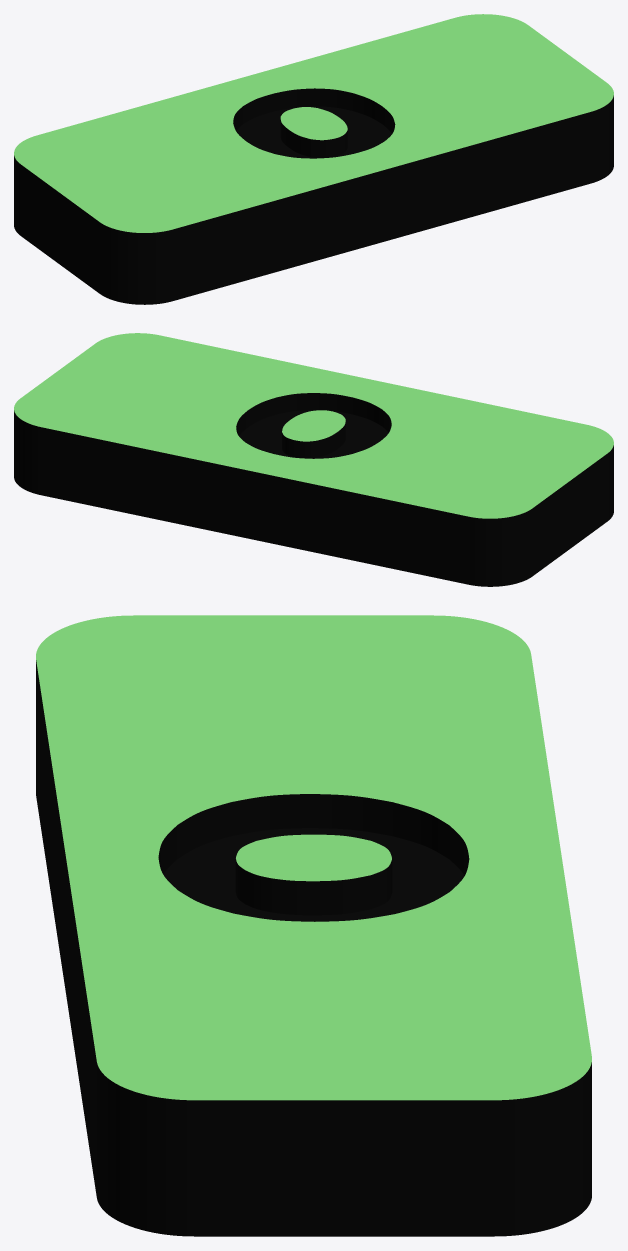
File: touche_verte.fbx
3 views of the same model, one above another, from view 1: azimuth 30°, elevation 25°; view 2: azimuth 150°, elevation 25°; view 3: azimuth 270°, elevation 25° (orthographic). The views are drawn at different scales.
Visible parts, largest first — view 1: imagetostl_mesh0; view 2: imagetostl_mesh0; view 3: imagetostl_mesh0.
Part boxes in pixels (x1=…): imagetostl_mesh0: x1=14, y1=14, x2=613, y2=304; imagetostl_mesh0: x1=14, y1=333, x2=613, y2=586; imagetostl_mesh0: x1=36, y1=615, x2=591, y2=1236.
Bounding box in the file's own units: 1527 × 200 × 740.
